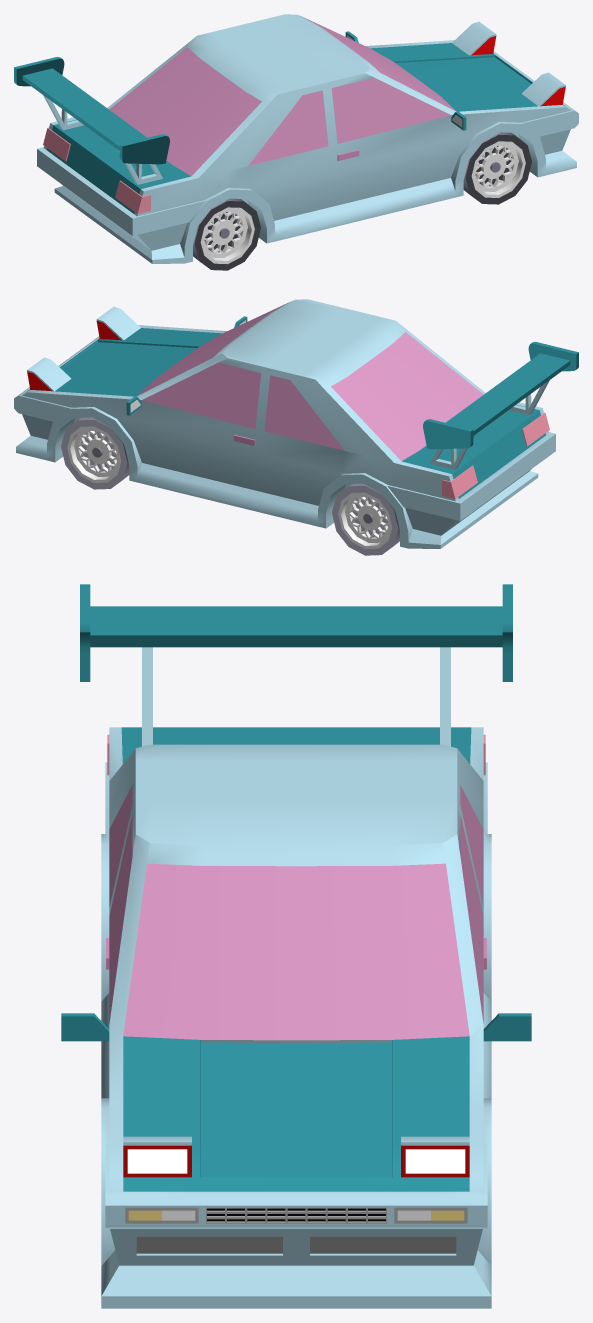
File: SportBlue.gltf
3 renders of one model, top to bottom at view 1: azimuth 30°, elevation 25°; view 2: azimuth 150°, elevation 25°; view 3: azimuth 270°, elevation 25°, orthographic. The views are drawn at different scales.
Parts seen in each view (by area): view 1: Cabin, Wheels/Windows, Car, Wheels, Disks 02, Disks 01, Red lights 1, Front lights body; view 2: Cabin, Wheels/Windows, Car, Wheels, Disks 02, Disks 01, Red lights 1, Front lights body; view 3: Cabin, Car, Wheels/Windows, Frame/grid, Front lights 1, Front lights body, Grid background.
Part boxes in pixels (bbox=[...]): Cabin: bbox=[37, 14, 578, 263]; Wheels/Windows: bbox=[109, 19, 456, 176]; Car: bbox=[14, 31, 565, 213]; Wheels: bbox=[193, 132, 531, 270]; Disks 02: bbox=[203, 144, 517, 256]; Disks 01: bbox=[200, 141, 525, 264]; Red lights 1: bbox=[43, 127, 150, 213]; Front lights body: bbox=[471, 36, 565, 106]; Cabin: bbox=[14, 299, 555, 548]; Wheels/Windows: bbox=[136, 304, 483, 461]; Car: bbox=[27, 316, 578, 498]; Wheels: bbox=[61, 417, 399, 555]; Disks 02: bbox=[75, 429, 389, 541]; Disks 01: bbox=[67, 426, 392, 549]; Red lights 1: bbox=[442, 412, 549, 498]; Front lights body: bbox=[27, 321, 121, 391]; Cabin: bbox=[101, 647, 491, 1308]; Car: bbox=[61, 584, 531, 1191]; Wheels/Windows: bbox=[106, 785, 486, 1040]; Frame/grid: bbox=[125, 1207, 467, 1253]; Front lights 1: bbox=[127, 1149, 465, 1173]; Front lights body: bbox=[123, 1145, 469, 1177]; Grid background: bbox=[207, 1208, 385, 1221].
Bounding box in the file's own units: 0.0477 × 0.0155 × 0.021.
